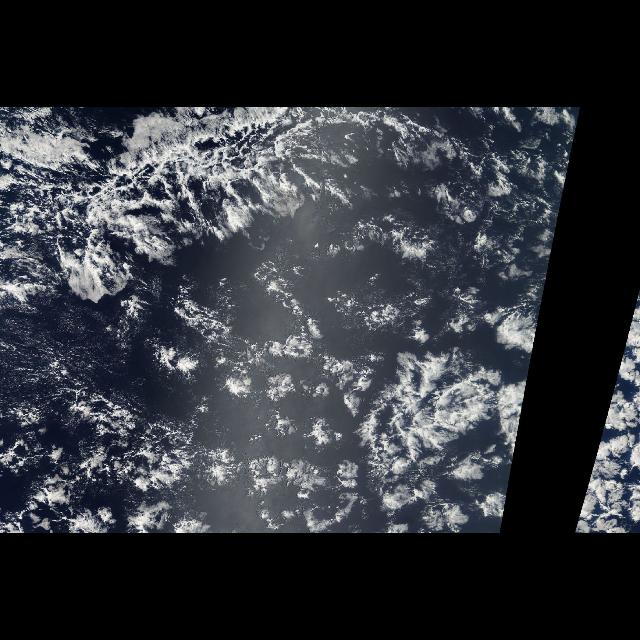Fish: (3, 107, 447, 315)
Flower: (12, 292, 540, 532), (573, 331, 639, 533)
